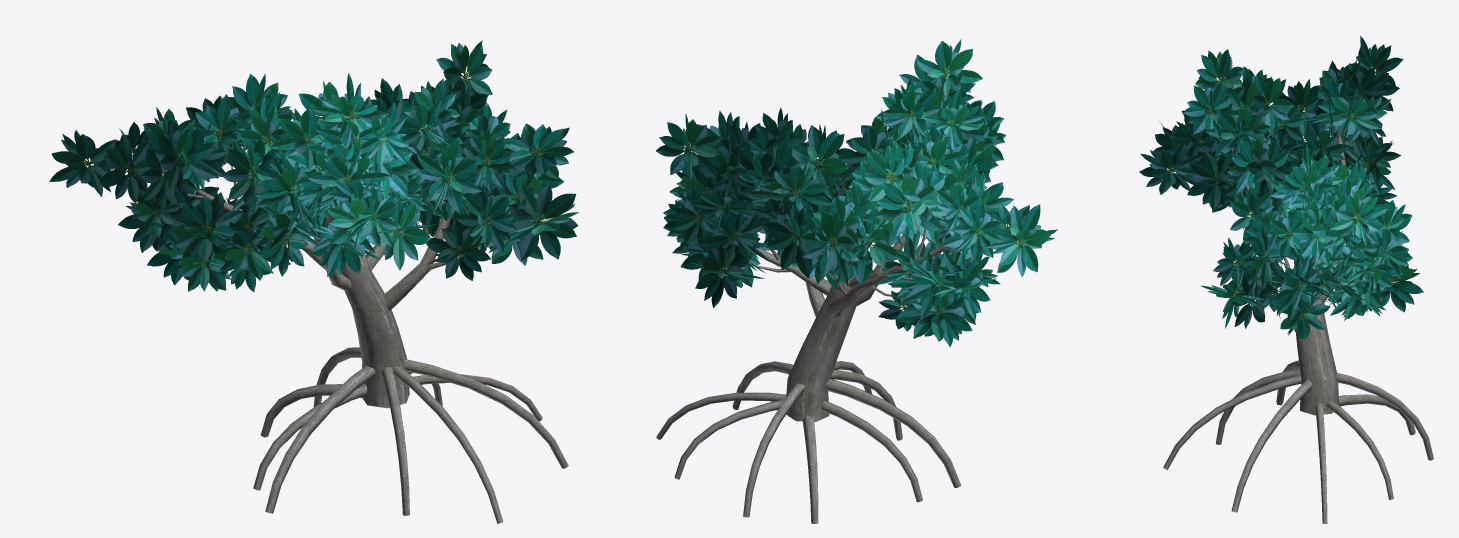
The model's file is nature-blue-mangrove_v4.glb.
The picture shows the model from 3 angles, left to right: view 1: azimuth 30°, elevation 25°; view 2: azimuth 150°, elevation 25°; view 3: azimuth 270°, elevation 25°; orthographic projection. The views are drawn at different scales.
Parts seen in each view (by area): view 1: nature-blue-mangrove; view 2: nature-blue-mangrove; view 3: nature-blue-mangrove.
Boxes of the visible parts, box(x1,y1,x2,y2) form: nature-blue-mangrove: box(49, 40, 578, 523); nature-blue-mangrove: box(656, 39, 1057, 523); nature-blue-mangrove: box(1139, 36, 1433, 523).
Size of the model in its own units: 7.97 by 7.14 by 5.39.
Materials: 2 (2 with a texture image).
